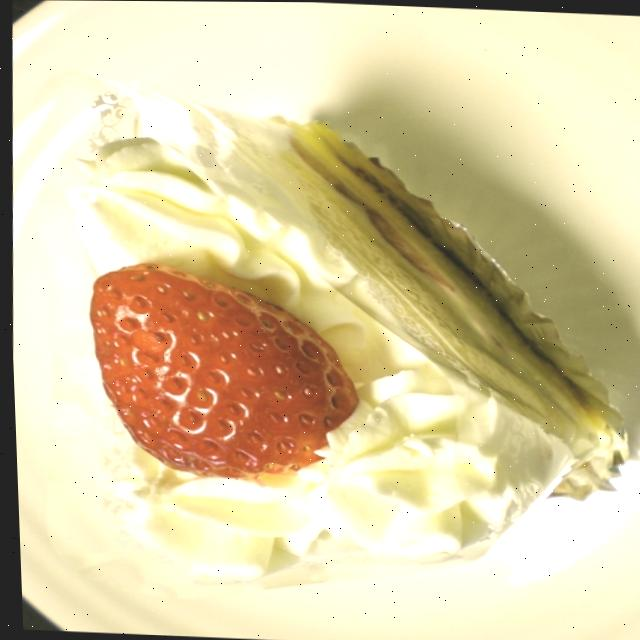蛋糕甜品: (4, 24, 640, 635)
